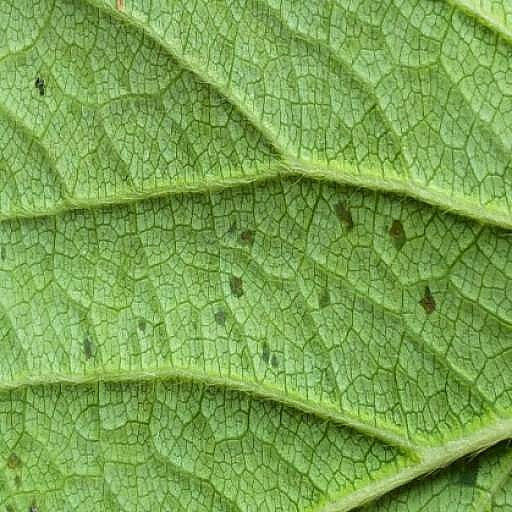Angular Leafspot: (0, 130, 453, 317), (0, 0, 53, 65), (28, 411, 54, 440)
